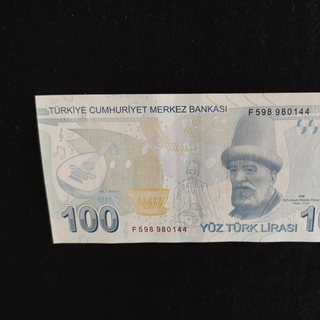100TLBack: (34, 91, 320, 244)
